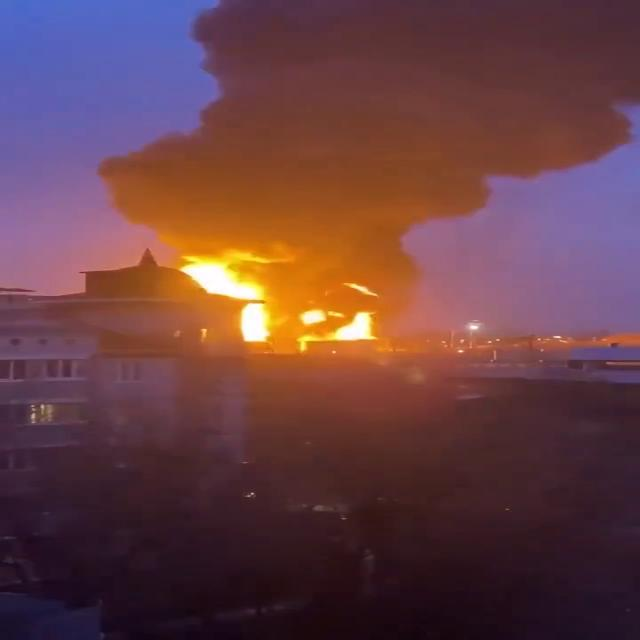Fire: (186, 264, 377, 356)
Smoke: (99, 32, 640, 253)
